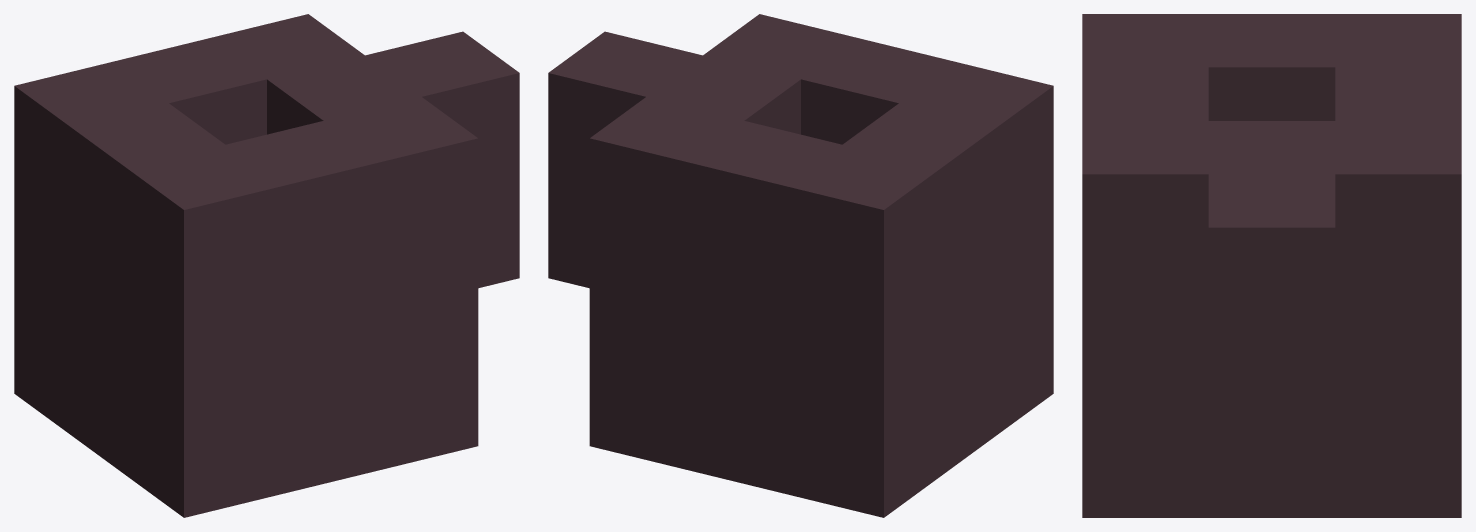
File: mug_c.obj
3 views of the same model, side by side, from view 1: azimuth 30°, elevation 25°; view 2: azimuth 150°, elevation 25°; view 3: azimuth 270°, elevation 25° (orthographic). The views are drawn at different scales.
Bounding box in the file's own units: 0.4 × 0.3 × 0.3.
Materials: 1 (1 with a texture image).
